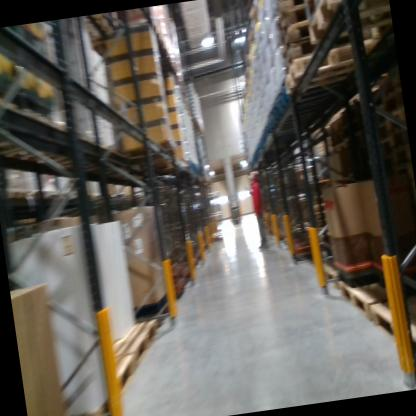pallet: (279, 34, 392, 103), (327, 245, 403, 321), (298, 0, 388, 57), (104, 303, 174, 370), (367, 291, 416, 373), (91, 348, 152, 408), (39, 386, 128, 416), (278, 38, 324, 78), (277, 19, 320, 56), (271, 5, 311, 31), (269, 0, 311, 22)
